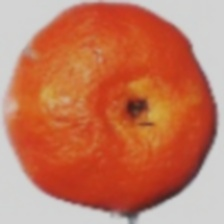tangerine: (39, 40, 191, 212)
